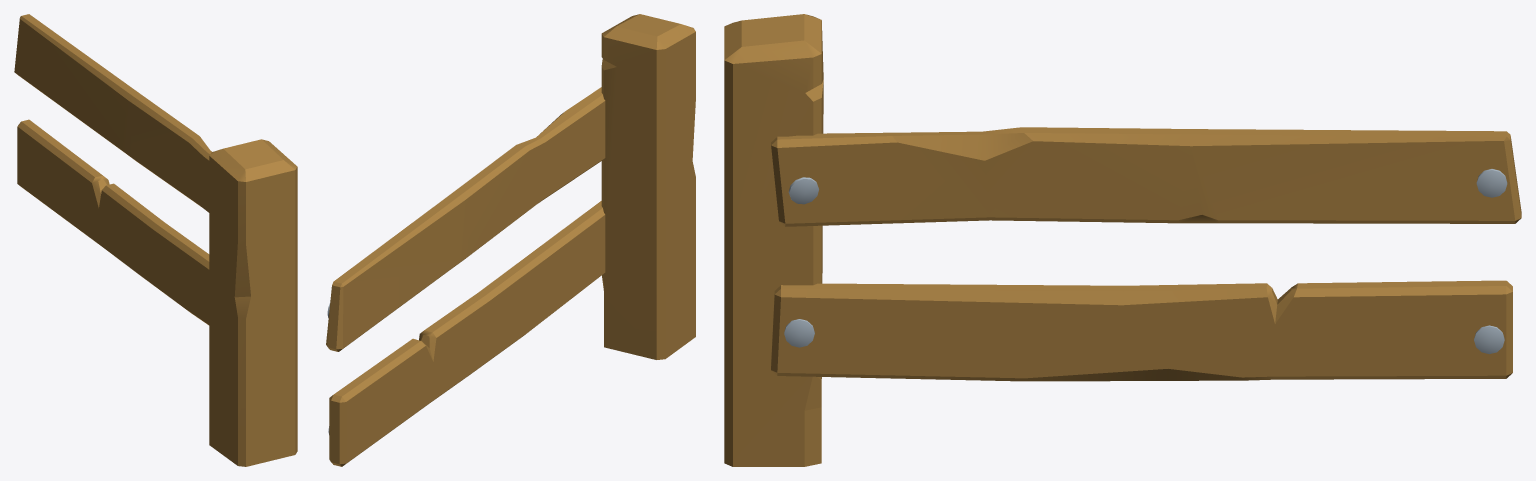
The model's file is fence.glb.
The picture shows the model from 3 angles, left to right: view 1: azimuth 30°, elevation 25°; view 2: azimuth 150°, elevation 25°; view 3: azimuth 270°, elevation 25°; orthographic projection. The views are drawn at different scales.
Visible parts, largest first — view 1: fence; view 2: fence; view 3: fence.
Boxes of the visible parts, <box> form: fence: <box>14,14,297,466</box>; fence: <box>326,14,695,466</box>; fence: <box>724,14,1521,466</box>.
Bounding box in the file's own units: 1.11 × 3.91 × 6.74.
